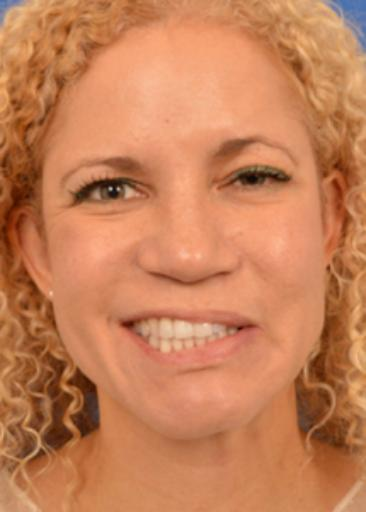left_eye: (218, 169, 292, 192)
left_lip_corner: (245, 315, 263, 335)
right_eye: (73, 179, 147, 207)
right_lip_corner: (120, 318, 134, 334)
